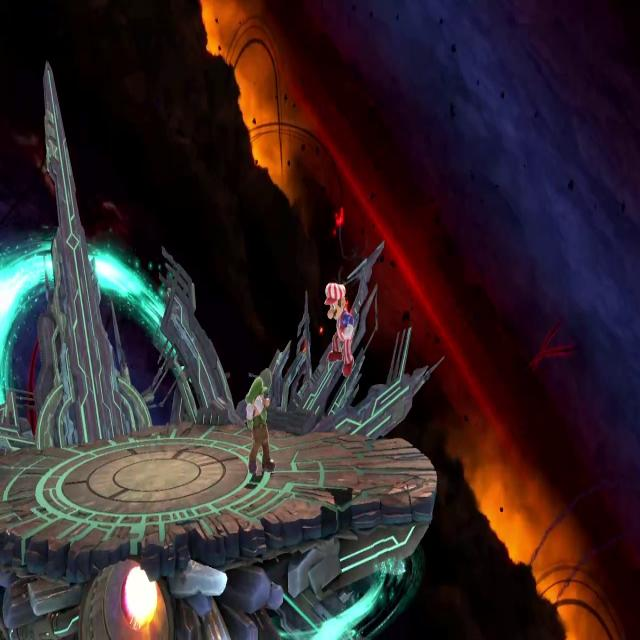Mario: (321, 276, 358, 382), (242, 374, 278, 482)
